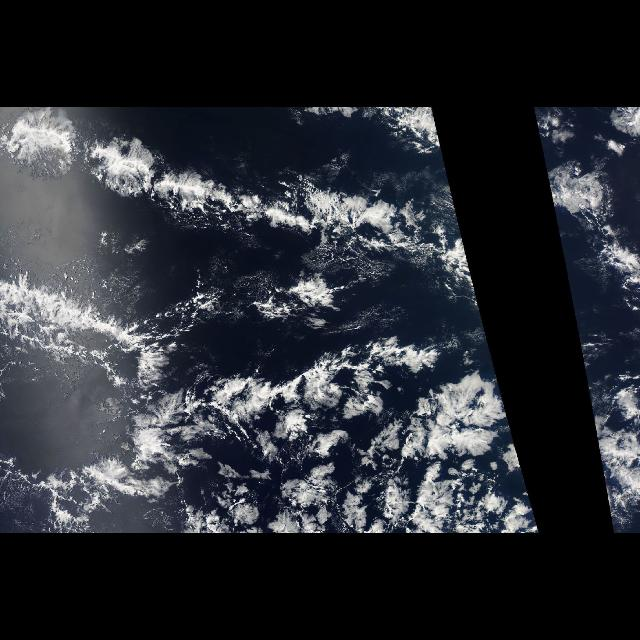Fish: (0, 111, 472, 445)
Flower: (122, 325, 534, 531), (2, 108, 156, 202)
